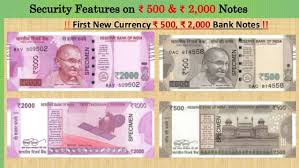fiveHundred: (165, 44, 286, 82)
